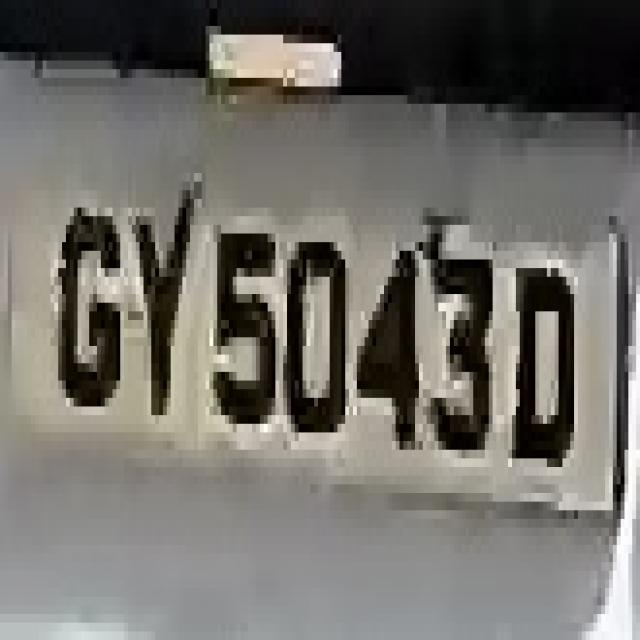0: (279, 199, 349, 441)
3: (423, 190, 508, 484)
4: (349, 190, 427, 476)
5: (210, 207, 283, 458)
D: (504, 242, 582, 467)
G: (47, 182, 128, 415)
Y: (120, 164, 206, 441)
